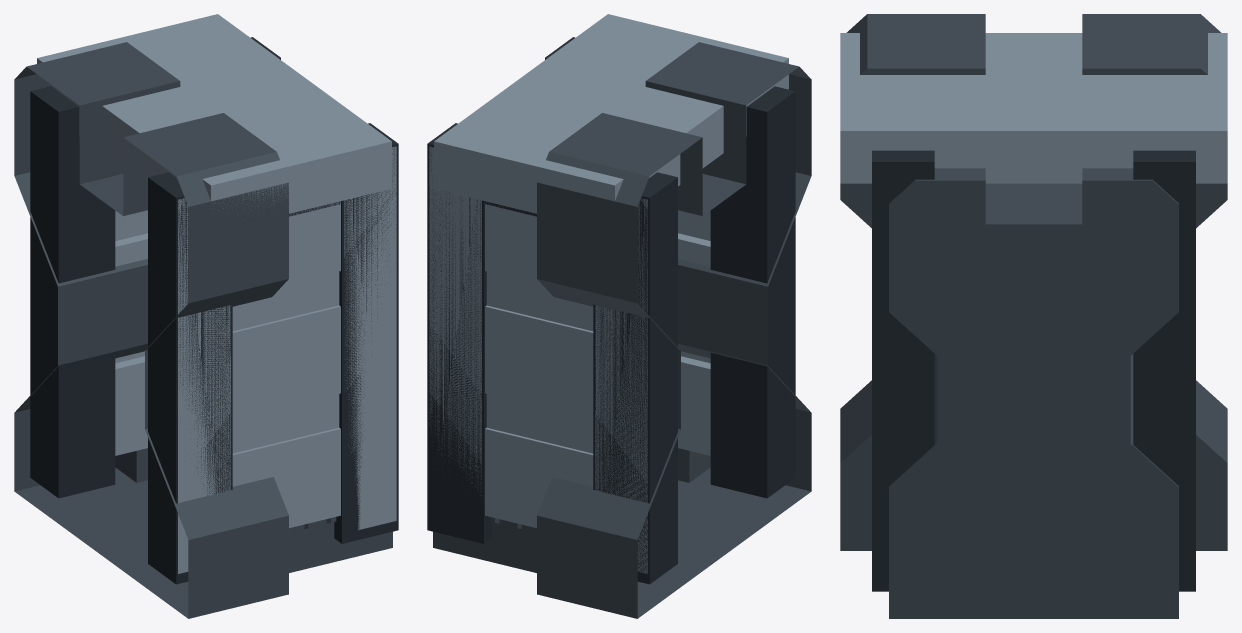
Rendered from SM_CRHex_WallStub_Tier3_Steel.fbx.
The picture shows the model from 3 angles, left to right: view 1: azimuth 30°, elevation 25°; view 2: azimuth 150°, elevation 25°; view 3: azimuth 270°, elevation 25°; orthographic projection. The views are drawn at different scales.
Parts seen in each view (by area): view 1: SM_CRHex_WallStub_Tier3_Steel_Core, SM_CRHex_WallStub_Tier3_Steel_Detail, SM_CRHex_WallStub_Tier3_Steel_StyleRibs, SM_CRHex_WallStub_Tier3_Steel_StylePanels; view 2: SM_CRHex_WallStub_Tier3_Steel_Core, SM_CRHex_WallStub_Tier3_Steel_StyleRibs, SM_CRHex_WallStub_Tier3_Steel_Detail, SM_CRHex_WallStub_Tier3_Steel_StylePanels; view 3: SM_CRHex_WallStub_Tier3_Steel_Core, SM_CRHex_WallStub_Tier3_Steel_Detail, SM_CRHex_WallStub_Tier3_Steel_StyleRibs.
Boxes of the visible parts, left/top/right/bottom form: SM_CRHex_WallStub_Tier3_Steel_Core: left=14, top=42, right=392, bottom=618; SM_CRHex_WallStub_Tier3_Steel_Detail: left=37, top=14, right=396, bottom=573; SM_CRHex_WallStub_Tier3_Steel_StyleRibs: left=30, top=37, right=398, bottom=584; SM_CRHex_WallStub_Tier3_Steel_StylePanels: left=115, top=201, right=340, bottom=528; SM_CRHex_WallStub_Tier3_Steel_Core: left=433, top=42, right=811, bottom=618; SM_CRHex_WallStub_Tier3_Steel_StyleRibs: left=427, top=37, right=795, bottom=584; SM_CRHex_WallStub_Tier3_Steel_Detail: left=429, top=14, right=788, bottom=573; SM_CRHex_WallStub_Tier3_Steel_StylePanels: left=485, top=201, right=710, bottom=528; SM_CRHex_WallStub_Tier3_Steel_Core: left=840, top=14, right=1227, bottom=618; SM_CRHex_WallStub_Tier3_Steel_Detail: left=840, top=33, right=1227, bottom=183; SM_CRHex_WallStub_Tier3_Steel_StyleRibs: left=872, top=150, right=1195, bottom=591.
Size of the model in its own units: 0.6 by 1.1 by 0.8.
